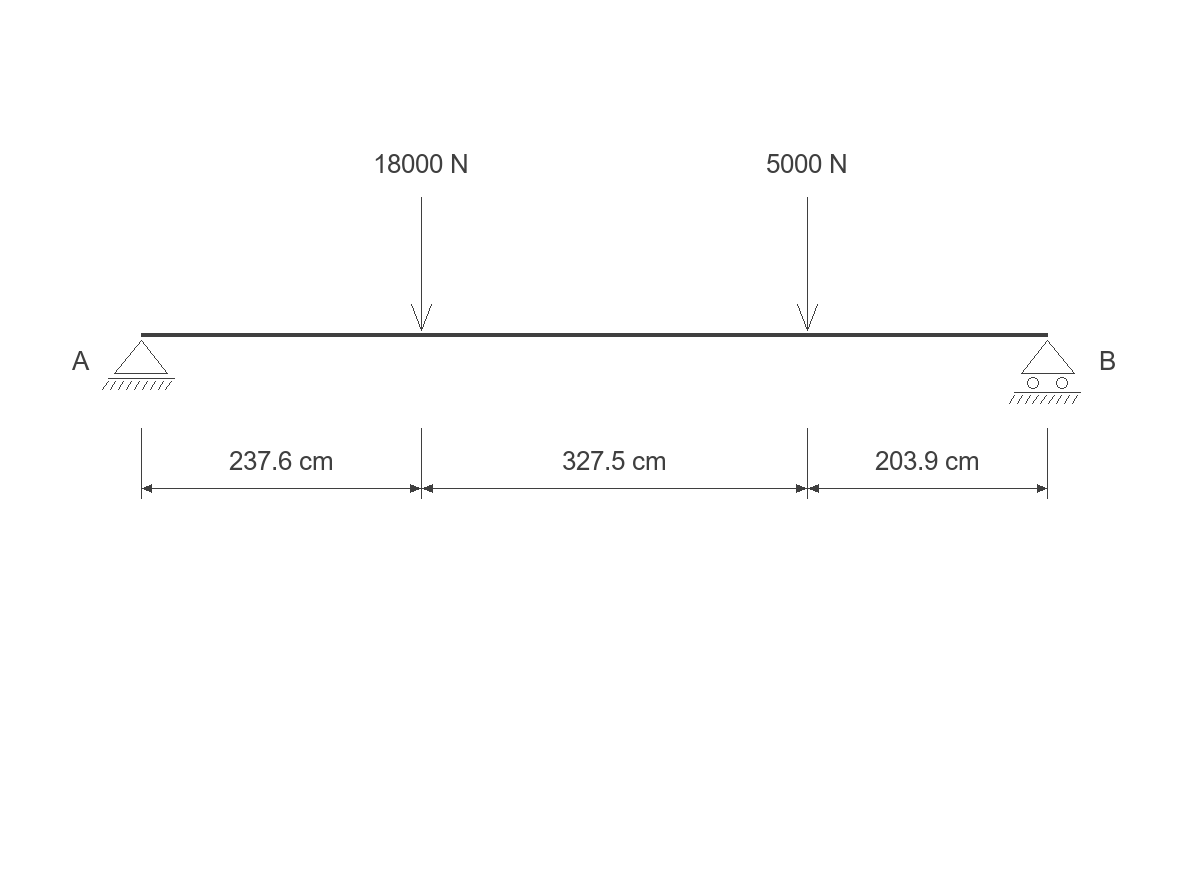pin_support: (102, 340, 175, 390)
point_load: (411, 197, 432, 331), (797, 197, 818, 331)
roller_support: (1009, 340, 1081, 404)
